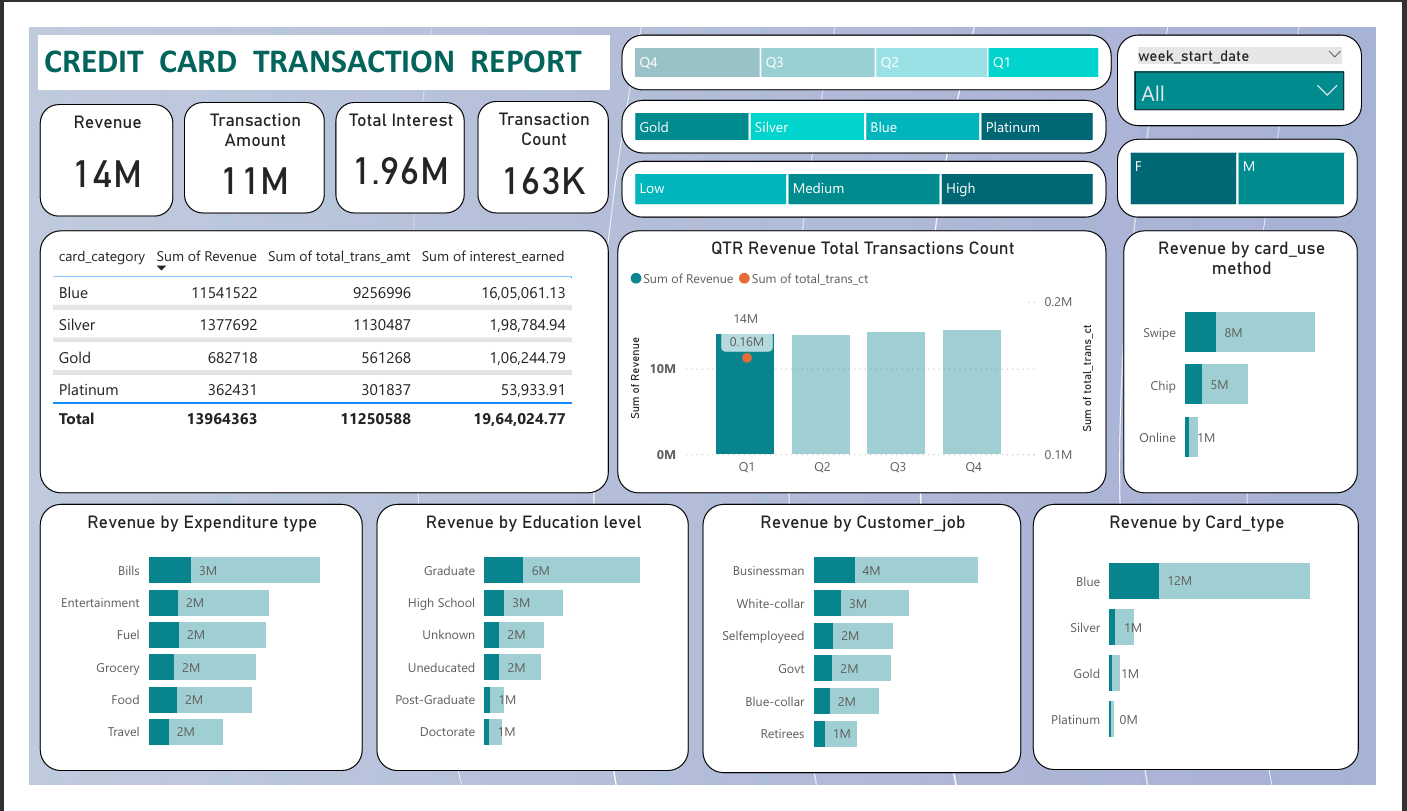

The page's visual inventory and layout, read from the dashboard file:
{"tool":"powerbi","page":{"name":"CC Transaction","canvas":[1280,720],"ordinal":0},"visuals":[{"type":"textbox","box":[9.2,8.3,542.5,51.7],"z":0},{"type":"lineStackedColumnComboChart","title":"QTR Revenue Total Transactions Count","fields":{"Y":["Sum(public cc_detail.Revenue)"],"Category":["public cc_detail.qtr"],"Y2":["Sum(public cc_detail.total_trans_ct)"]},"box":[558.6,192.9,465.7,250],"z":1000},{"type":"barChart","title":"Revenue by Expenditure type","fields":{"Y":["Sum(public cc_detail.Revenue)"],"Category":["public cc_detail.exp_type"]},"box":[10,452.9,307.1,254.3],"z":2000},{"type":"barChart","title":"Revenue by Education level","fields":{"Y":["Sum(public cc_detail.Revenue)"],"Category":["public cust_detail.education_level"]},"box":[330,452.9,297.1,254.3],"z":3000},{"type":"barChart","title":"Revenue by Customer_job","fields":{"Y":["Sum(public cc_detail.Revenue)"],"Category":["public cust_detail.customer_job"]},"box":[640,452.9,302.9,255.7],"z":4000},{"type":"barChart","title":"Revenue by Card_type","fields":{"Y":["Sum(public cc_detail.Revenue)"],"Category":["public cc_detail.card_category"]},"box":[954.3,452.9,310,252.9],"z":5000},{"type":"barChart","title":"Revenue by card_use method","fields":{"Y":["Sum(public cc_detail.Revenue)"],"Category":["public cc_detail.use_chip"]},"box":[1040,192.9,222.9,250],"z":6000},{"type":"tableEx","fields":{"Values":["public cc_detail.card_category","Sum(public cc_detail.Revenue)","Sum(public cc_detail.total_trans_amt)","Sum(public cc_detail.interest_earned)"]},"box":[10,192.9,541.4,250],"z":7000},{"type":"card","title":"Revenue","fields":{"Values":["Sum(public cc_detail.Revenue)"]},"box":[10,72.9,127.1,107.1],"z":8000},{"type":"card","title":"Transaction Amount","fields":{"Values":["Sum(public cc_detail.total_trans_amt)"]},"box":[147.1,71.4,134.3,105.7],"z":9000},{"type":"card","title":"Total Interest","fields":{"Values":["Sum(public cc_detail.interest_earned)"]},"box":[291.4,71.4,122.9,105.7],"z":10000},{"type":"card","title":"Transaction Count","fields":{"Values":["Sum(public cc_detail.total_trans_ct)"]},"box":[425.7,70,125.7,107.1],"z":11000},{"type":"slicer","fields":{"Values":["public cc_detail.week_start_date"]},"box":[1034.3,7.1,232.9,87.1],"z":12000},{"type":"treemap","fields":{"Group":["public cc_detail.qtr"],"Values":["Avg(public cc_detail.client_num)"]},"box":[563,7,466,53],"z":13000},{"type":"treemap","fields":{"Values":["Avg(public cc_detail.client_num)"],"Group":["public cc_detail.card_category"]},"box":[562.9,68.6,461.4,51.4],"z":14000},{"type":"treemap","fields":{"Group":["public cust_detail.gender"],"Values":["Avg(public cc_detail.client_num)"]},"box":[1034.3,105.7,228.6,75.7],"z":15000},{"type":"treemap","fields":{"Values":["Avg(public cc_detail.client_num)"],"Group":["public cust_detail.Incomegroup"]},"box":[562.9,127.1,461.4,54.3],"z":16000}]}

Visuals, with their boxes in screenshot pixels (x1, y1, x2, y2), scaled from the page's 1280x720 canvas onto the 1407x811 screenshot:
textbox: BBox(10, 9, 606, 68)
"QTR Revenue Total Transactions Count" lineStackedColumnComboChart: BBox(614, 217, 1126, 499)
"Revenue by Expenditure type" barChart: BBox(11, 510, 349, 797)
"Revenue by Education level" barChart: BBox(363, 510, 689, 797)
"Revenue by Customer_job" barChart: BBox(704, 510, 1036, 798)
"Revenue by Card_type" barChart: BBox(1049, 510, 1390, 795)
"Revenue by card_use method" barChart: BBox(1143, 217, 1388, 499)
tableEx - public cc_detail.card_category x Sum(public cc_detail.Revenue): BBox(11, 217, 606, 499)
"Revenue" card: BBox(11, 82, 151, 203)
"Transaction Amount" card: BBox(162, 80, 309, 199)
"Total Interest" card: BBox(320, 80, 455, 199)
"Transaction Count" card: BBox(468, 79, 606, 199)
slicer - public cc_detail.week_start_date: BBox(1137, 8, 1393, 106)
treemap - public cc_detail.qtr x Avg(public cc_detail.client_num): BBox(619, 8, 1131, 68)
treemap - Avg(public cc_detail.client_num) x public cc_detail.card_category: BBox(619, 77, 1126, 135)
treemap - public cust_detail.gender x Avg(public cc_detail.client_num): BBox(1137, 119, 1388, 204)
treemap - Avg(public cc_detail.client_num) x public cust_detail.Incomegroup: BBox(619, 143, 1126, 204)
